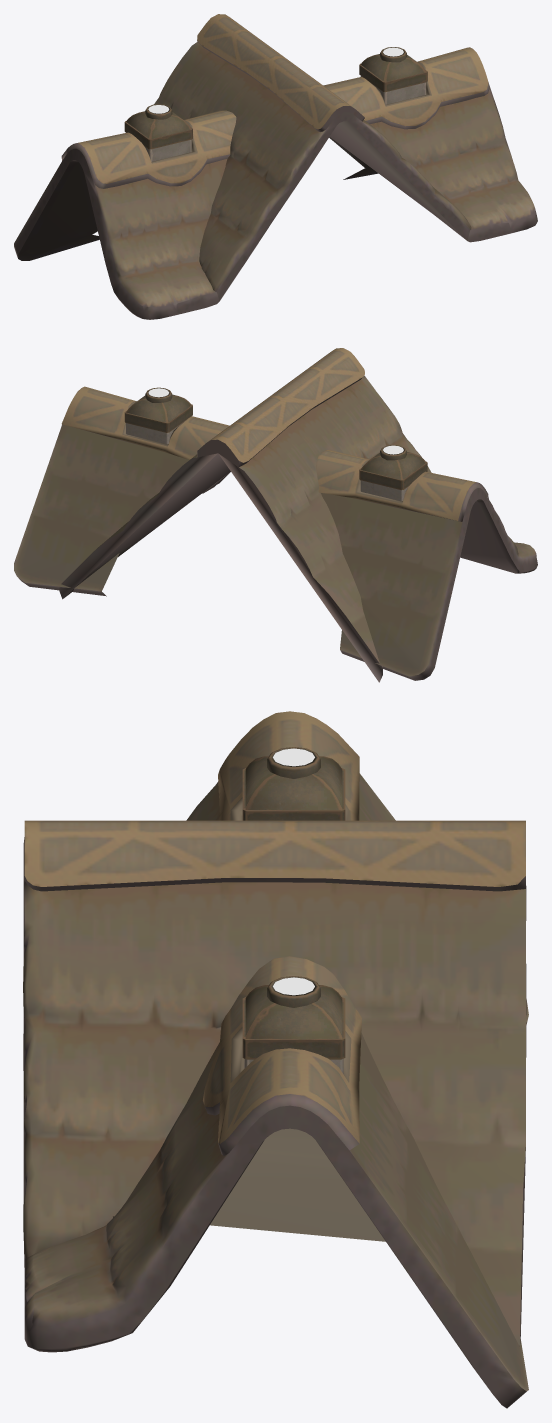
File: chalet-roof-e.glb
3 renders of one model, top to bottom at view 1: azimuth 30°, elevation 25°; view 2: azimuth 150°, elevation 25°; view 3: azimuth 270°, elevation 25°, orthographic. The views are drawn at different scales.
Parts seen in each view (by area): view 1: Thatched00_low__mRoofA, Thatched02_low__mRoofA, Cm00_low__mRoofB; view 2: Thatched00_low__mRoofA, Thatched02_low__mRoofA, Cm00_low__mRoofB; view 3: Thatched00_low__mRoofA, Thatched02_low__mRoofA, Cm00_low__mRoofB, Hole__mChimneyhole.
Part boxes in pixels (box(x1,y1,x2,y2)): Thatched00_low__mRoofA: box(61, 14, 489, 300); Thatched02_low__mRoofA: box(14, 83, 537, 319); Cm00_low__mRoofB: box(124, 47, 427, 161); Thatched00_low__mRoofA: box(59, 348, 488, 682); Thatched02_low__mRoofA: box(14, 424, 537, 680); Cm00_low__mRoofB: box(124, 387, 427, 501); Thatched00_low__mRoofA: box(23, 711, 526, 1346); Thatched02_low__mRoofA: box(24, 773, 528, 1408); Cm00_low__mRoofB: box(242, 747, 345, 1073); Hole__mChimneyhole: box(273, 748, 314, 995).
Size of the model in its own units: 50.03 by 23.53 by 26.31.
3 materials, 2 textured.
